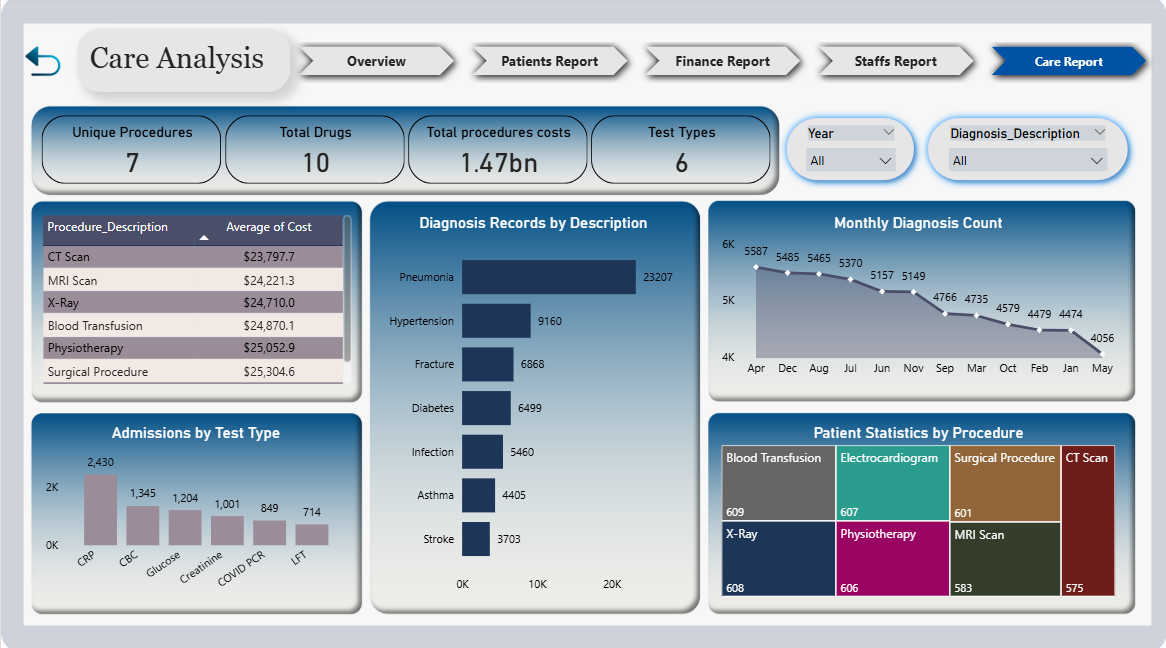

The dashboard page shown, as its layout file describes it:
{"tool":"powerbi","page":{"name":"Care Report","canvas":[1280,720],"ordinal":5},"visuals":[{"type":"shape","box":[853.5,124.9,157.8,86.4],"z":0},{"type":"cardVisual","fields":{"Data":["_measures.Unique Procedures","_measures.Total Drugs","_measures.Total procedures costs","_measures.Test Types"]},"box":[39.8,126.2,813.7,85.1],"z":1000},{"type":"barChart","title":"Diagnosis Records by Description","fields":{"Category":["fact_table.Diagnosis_Description"],"Y":["CountNonNull(fact_table.Diag_ID)"]},"box":[414.4,238.8,340.3,425.4],"z":2000},{"type":"lineChart","title":"Monthly Diagnosis Count","fields":{"Category":["Date_Table.Month_Name"],"Y":["CountNonNull(fact_table.Diag_ID)"]},"box":[786.3,238.8,441.9,188],"z":3000},{"type":"columnChart","title":"Admissions by Test Type","fields":{"Y":["_measures.Total Admissions"],"Category":["fact_table.Test_Name"]},"box":[43.9,469.3,340.3,194.9],"z":4000},{"type":"tableEx","fields":{"Values":["fact_table.Procedure_Description","Avg(fact_table.Cost)"]},"box":[39.8,236,349.9,194.9],"z":5000},{"type":"treemap","title":"Patient Statistics by Procedure","fields":{"Values":["_measures.Total Patiens"],"Group":["fact_table.Procedure_Description"]},"box":[786,469,442,195],"z":6000},{"type":"slicer","fields":{"Values":["Date_Table.Year"]},"box":[872.7,137.2,120.8,65.9],"z":7000},{"type":"shape","box":[1008.6,124.9,237.4,86.4],"z":8000},{"type":"slicer","fields":{"Values":["fact_table.Diagnosis_Description"]},"box":[1029.2,137.2,196.2,65.9],"z":9000},{"type":"pageNavigator","box":[318.4,46.7,949.6,49.4],"z":10000},{"type":"textbox","box":[83.7,35.7,233.3,70],"z":11000},{"type":"image","box":[22,46.7,48,49.4],"z":12000}]}

Visuals, with their boxes in screenshot pixels (x1, y1, x2, y2), scaled from the page's 1280x720 canvas onto the 1166x648 screenshot:
shape: left=777, top=112, right=921, bottom=190
cardVisual - _measures.Unique Procedures x _measures.Total Drugs: left=36, top=114, right=777, bottom=190
"Diagnosis Records by Description" barChart: left=377, top=215, right=687, bottom=598
"Monthly Diagnosis Count" lineChart: left=716, top=215, right=1119, bottom=384
"Admissions by Test Type" columnChart: left=40, top=422, right=350, bottom=598
tableEx - fact_table.Procedure_Description x Avg(fact_table.Cost): left=36, top=212, right=355, bottom=388
"Patient Statistics by Procedure" treemap: left=716, top=422, right=1119, bottom=598
slicer - Date_Table.Year: left=795, top=123, right=905, bottom=183
shape: left=919, top=112, right=1135, bottom=190
slicer - fact_table.Diagnosis_Description: left=938, top=123, right=1116, bottom=183
pageNavigator: left=290, top=42, right=1155, bottom=86
textbox: left=76, top=32, right=289, bottom=95
image: left=20, top=42, right=64, bottom=86
